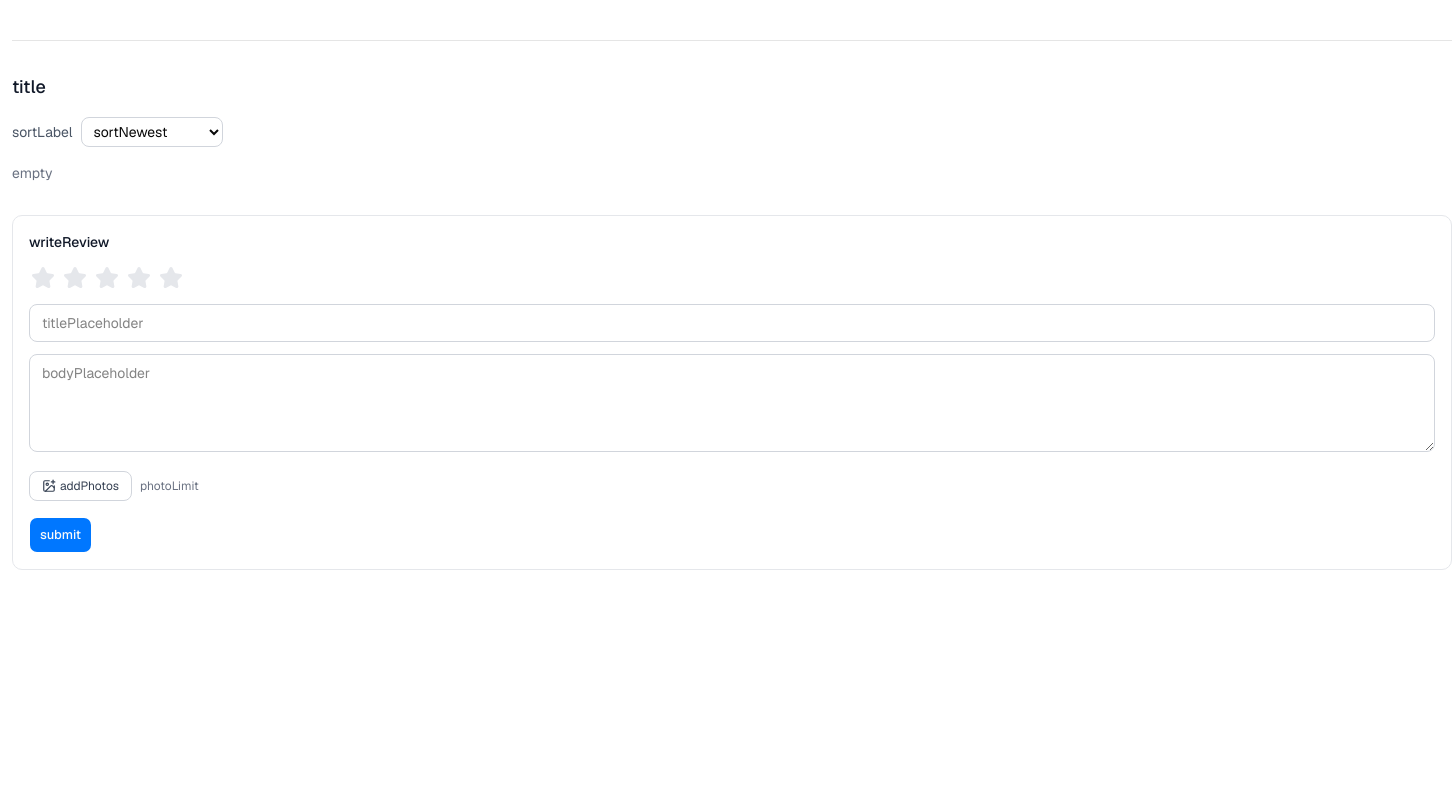
ProductReviews — F-1 › maps the API photo-limit error to the localized message
The image size is (1452, 810).
Click the button named "4 stars" at {"x": 139, "y": 278}, box [125,264,153,292]
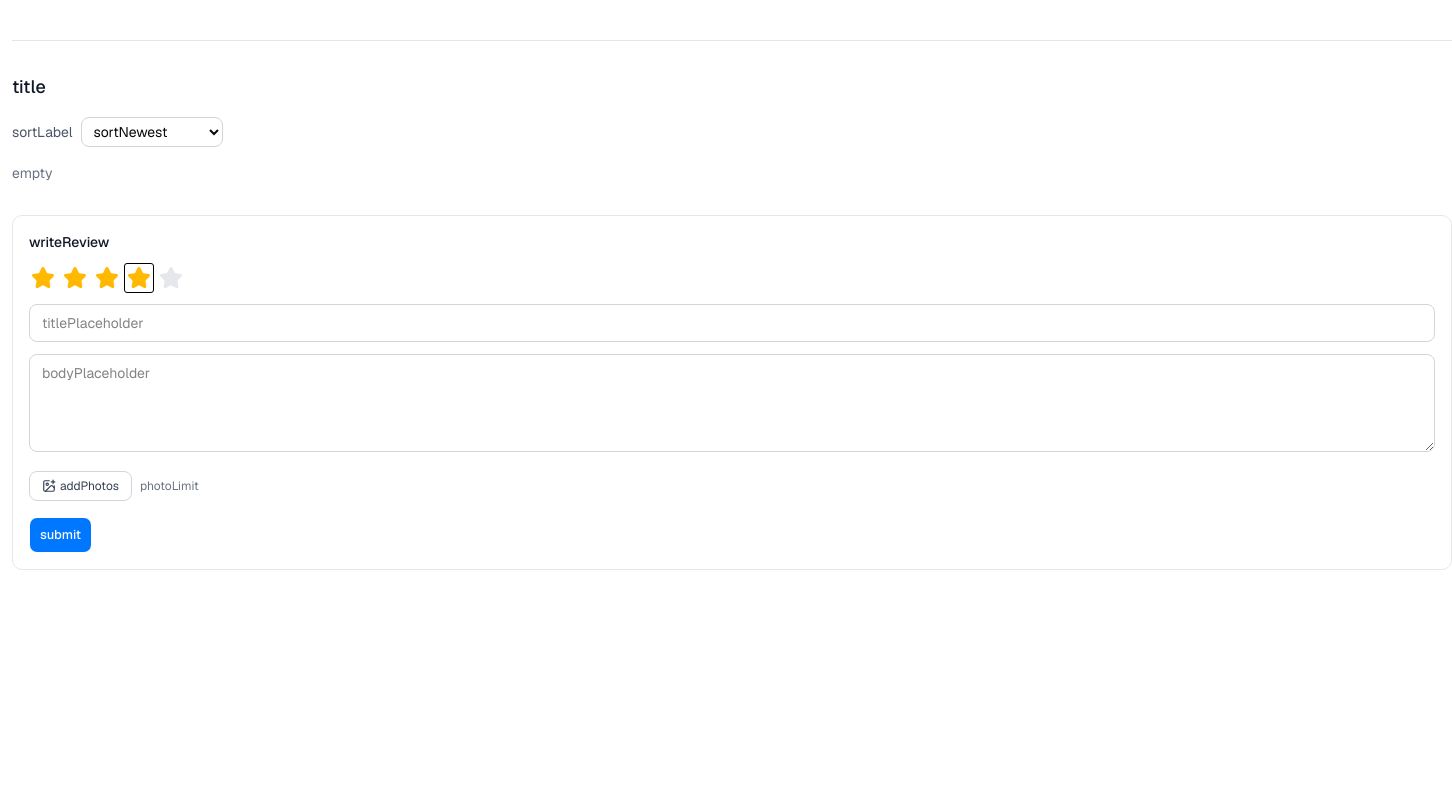
Click the button "submit" at {"x": 60, "y": 535}, box [29,517,92,553]
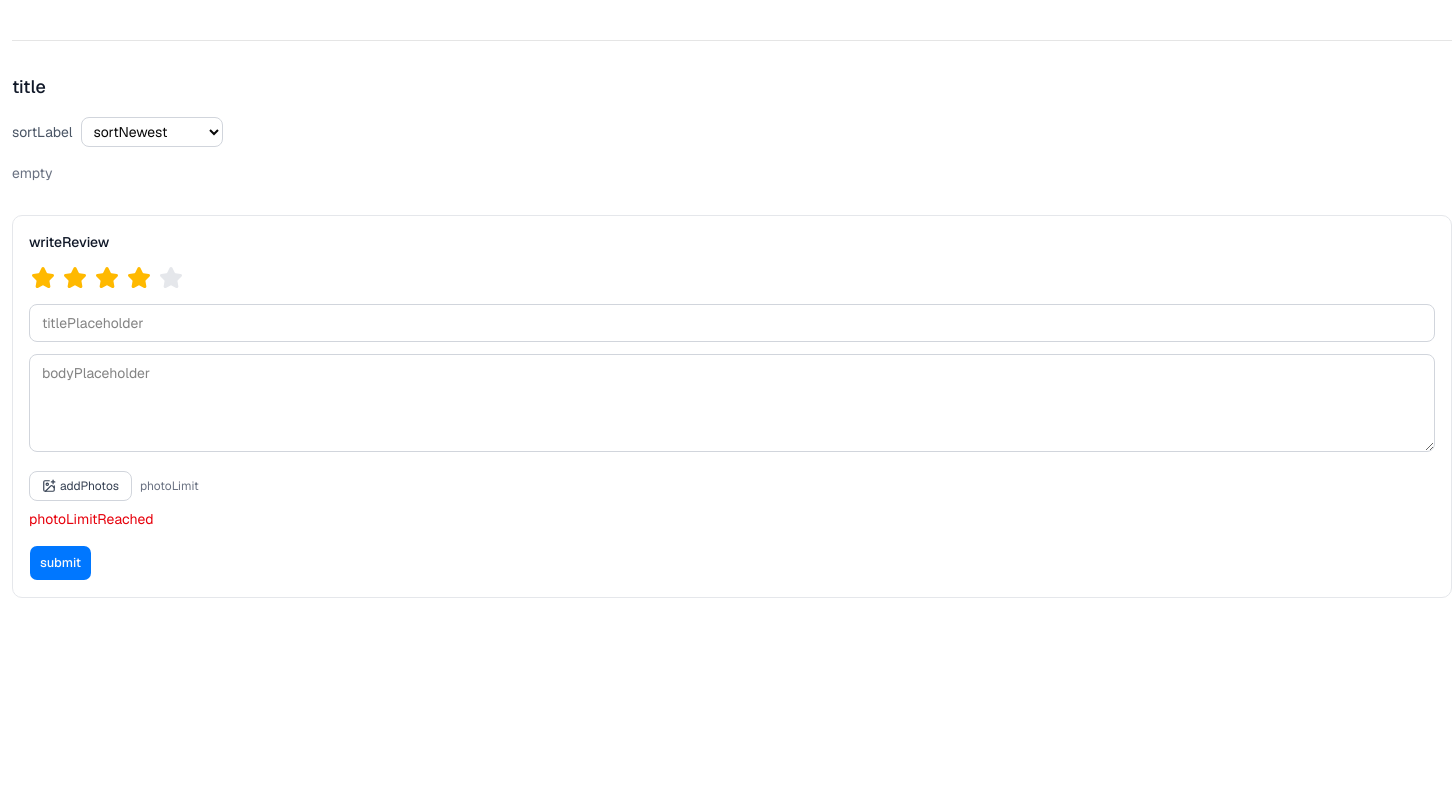
Expected: the text "photoLimitReached" is shown, [29,510,154,528]
